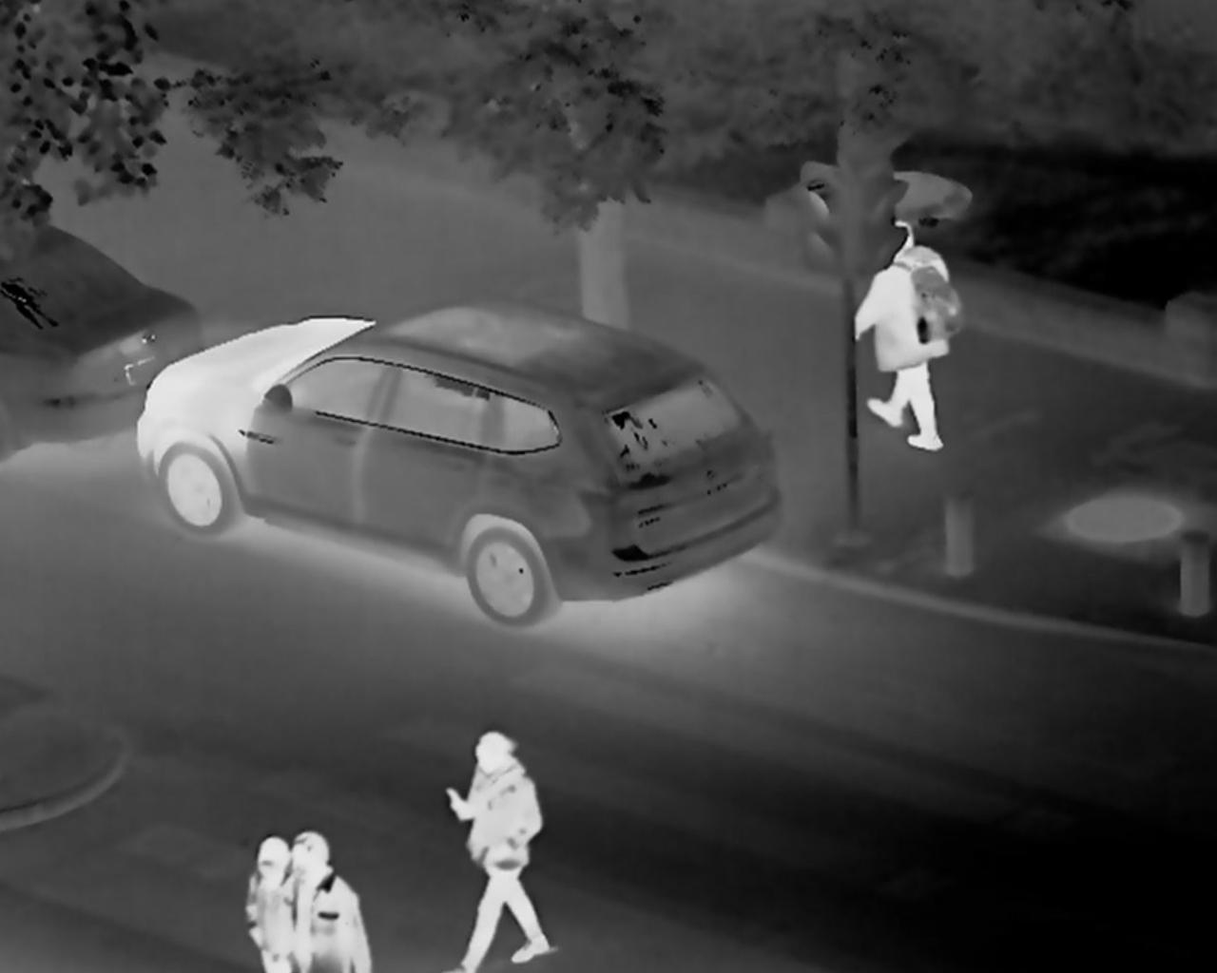person: (443, 735, 587, 958), (865, 220, 987, 451), (291, 830, 371, 973), (236, 820, 292, 973)
